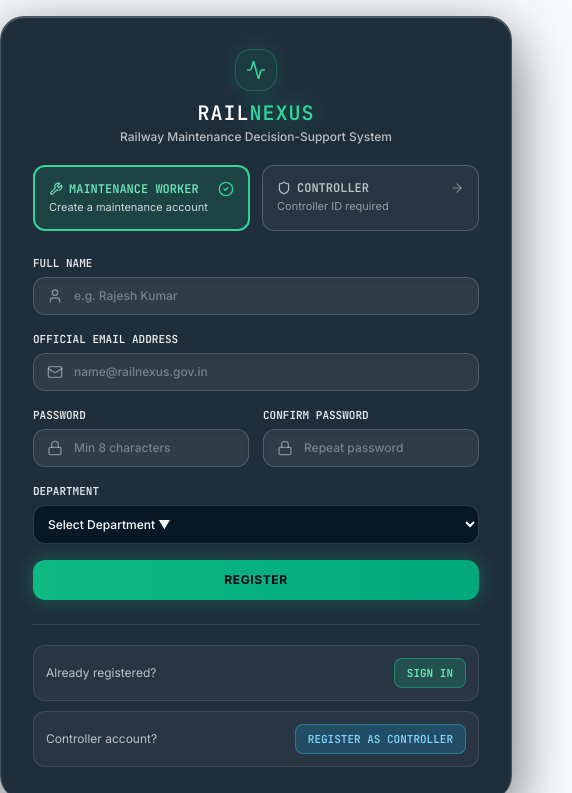
RailNexus Auth Flow & Role Architecture - Final Acceptance Verification › Registration Screen Constraints › validates password and confirm password match
Step 1. Type "Amit Kumar" into the field labelled "Full Name" → (256, 296), box [33,277,479,315]
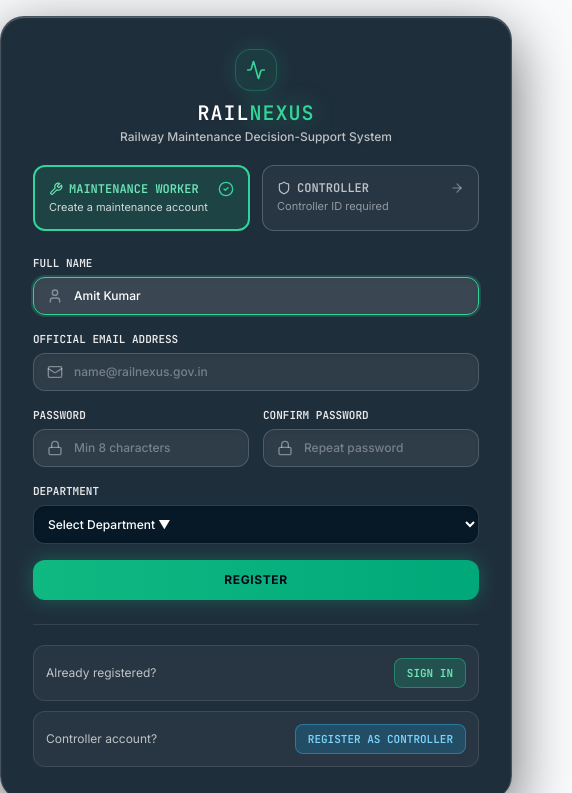
Step 2. Type "amit@railnexus.gov.in" into the field labelled "Official Email Address" → (256, 372), box [33,353,479,391]
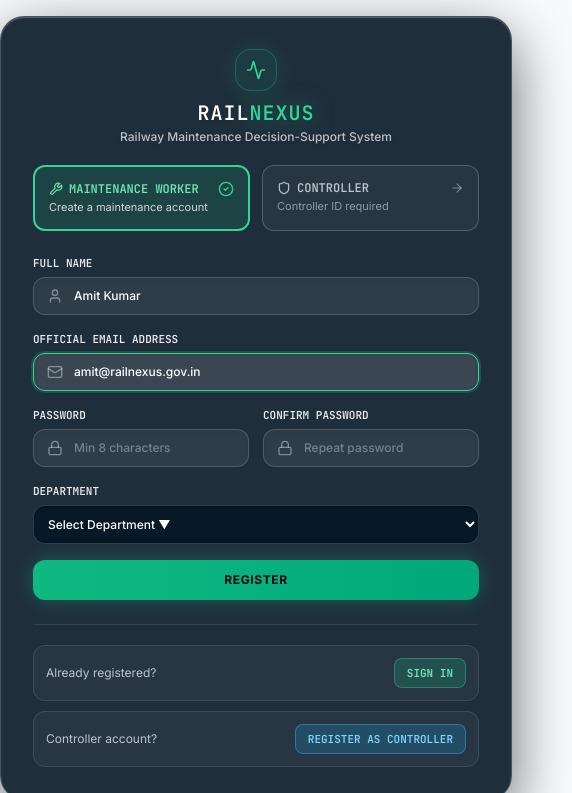
Step 3. Type "Password123!" into the password field labelled "Password" → (141, 448), box [33,429,249,467]
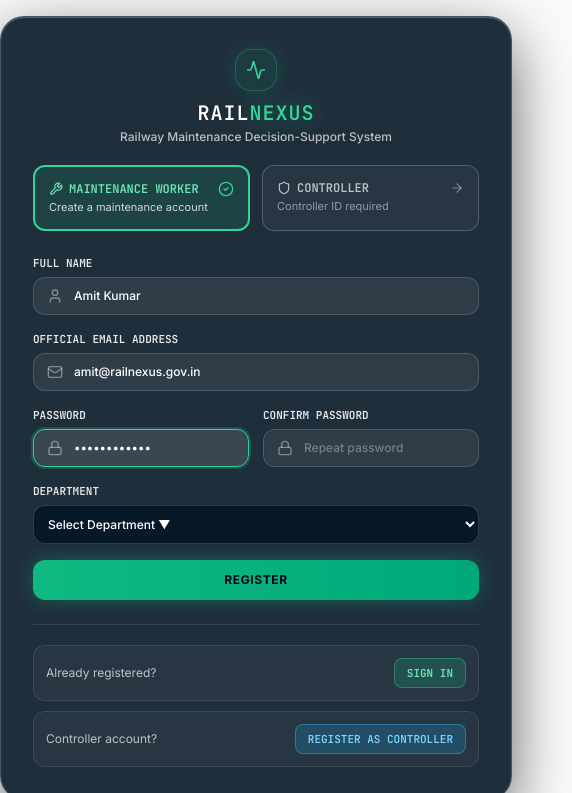
Step 4. Type "DifferentPassword456!" into the password field labelled "Confirm Password" → (371, 448), box [263,429,479,467]
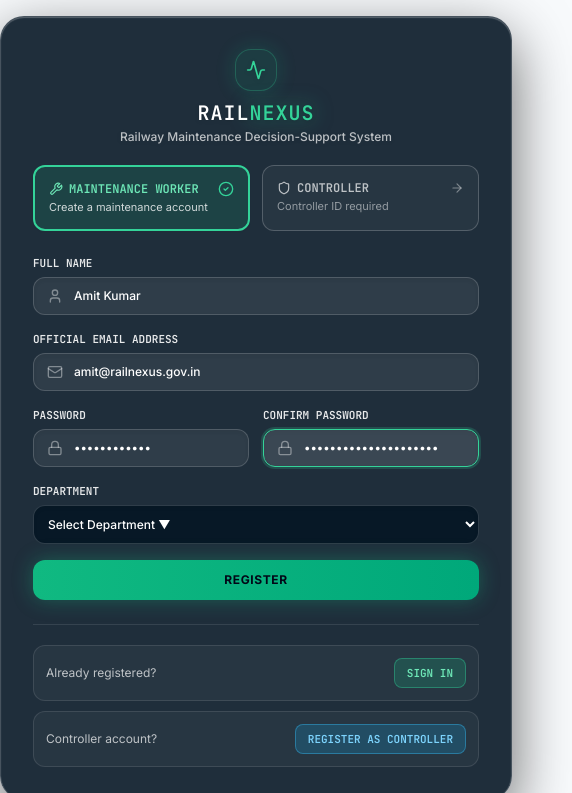
Step 5. Select "Engineering" in the dropdown labelled "Department" → (256, 524), box [33,505,479,544]
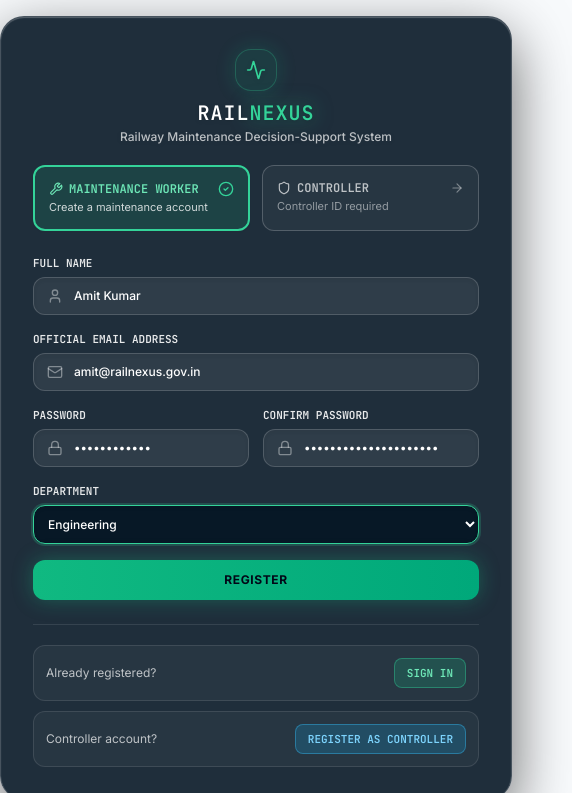
Step 6. Click the button "Register" → (256, 580), box [33,560,479,600]
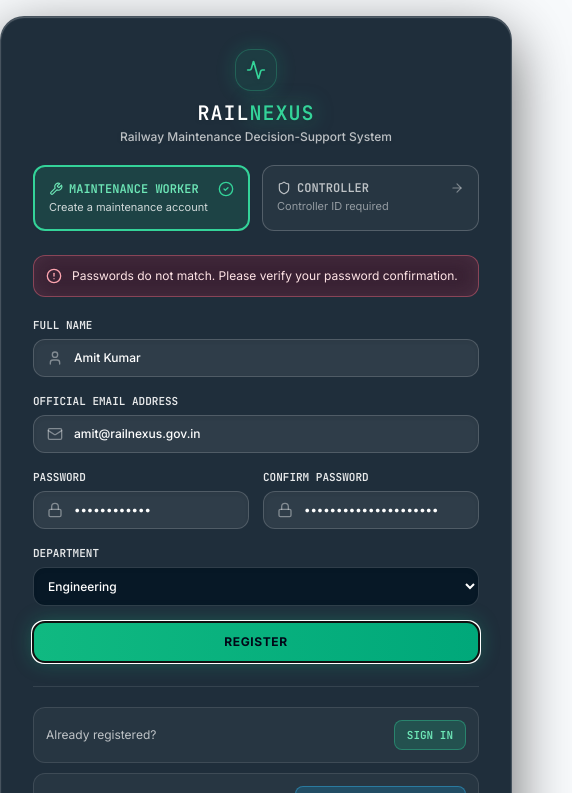
Check: the text "Passwords do not match" is shown, box [72,268,458,283]
